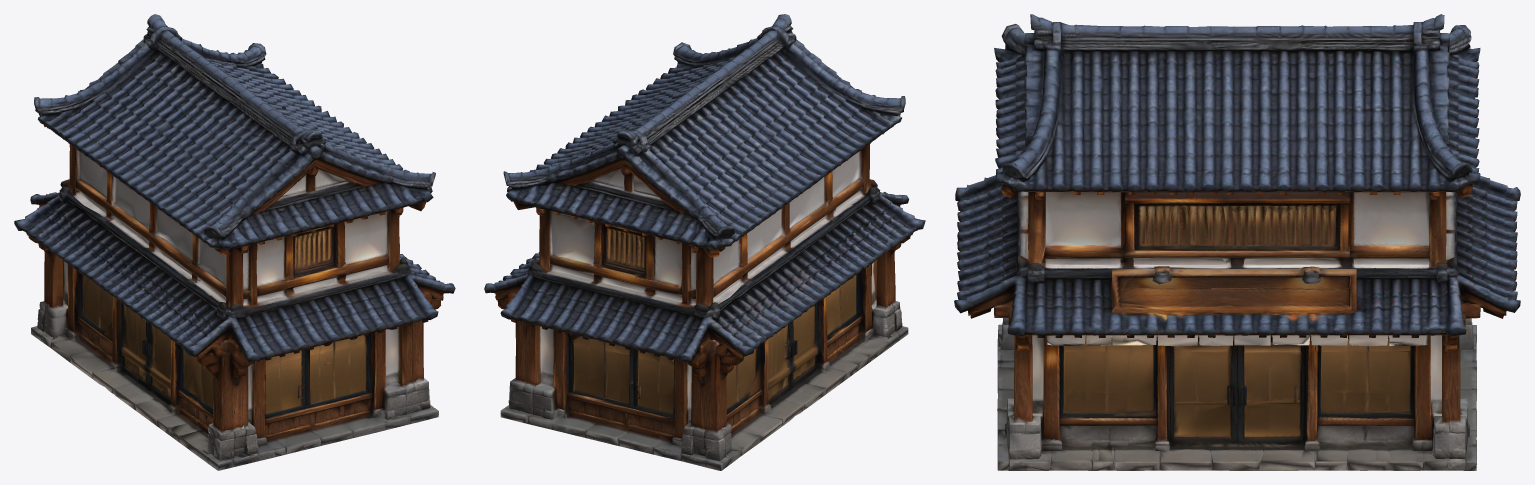
File: level-2-web.glb
3 views of the same model, side by side, from view 1: azimuth 30°, elevation 25°; view 2: azimuth 150°, elevation 25°; view 3: azimuth 270°, elevation 25° (orthographic). The views are drawn at different scales.
Visible parts, largest first — view 1: tripo_node_2f23357a-4f46-4f3f-8741-fdb46e8d90e6; view 2: tripo_node_2f23357a-4f46-4f3f-8741-fdb46e8d90e6; view 3: tripo_node_2f23357a-4f46-4f3f-8741-fdb46e8d90e6.
Part boxes in pixels (bbox=[...]): tripo_node_2f23357a-4f46-4f3f-8741-fdb46e8d90e6: bbox=[14, 14, 455, 470]; tripo_node_2f23357a-4f46-4f3f-8741-fdb46e8d90e6: bbox=[484, 14, 925, 470]; tripo_node_2f23357a-4f46-4f3f-8741-fdb46e8d90e6: bbox=[954, 14, 1520, 470].
Size of the model in its own units: 0.6826 by 0.7411 by 0.9817.
1 material, 1 textured.
